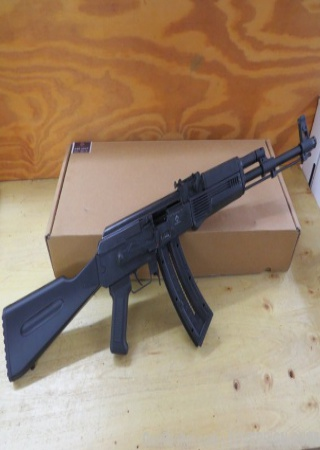rifle: (3, 115, 316, 384)
